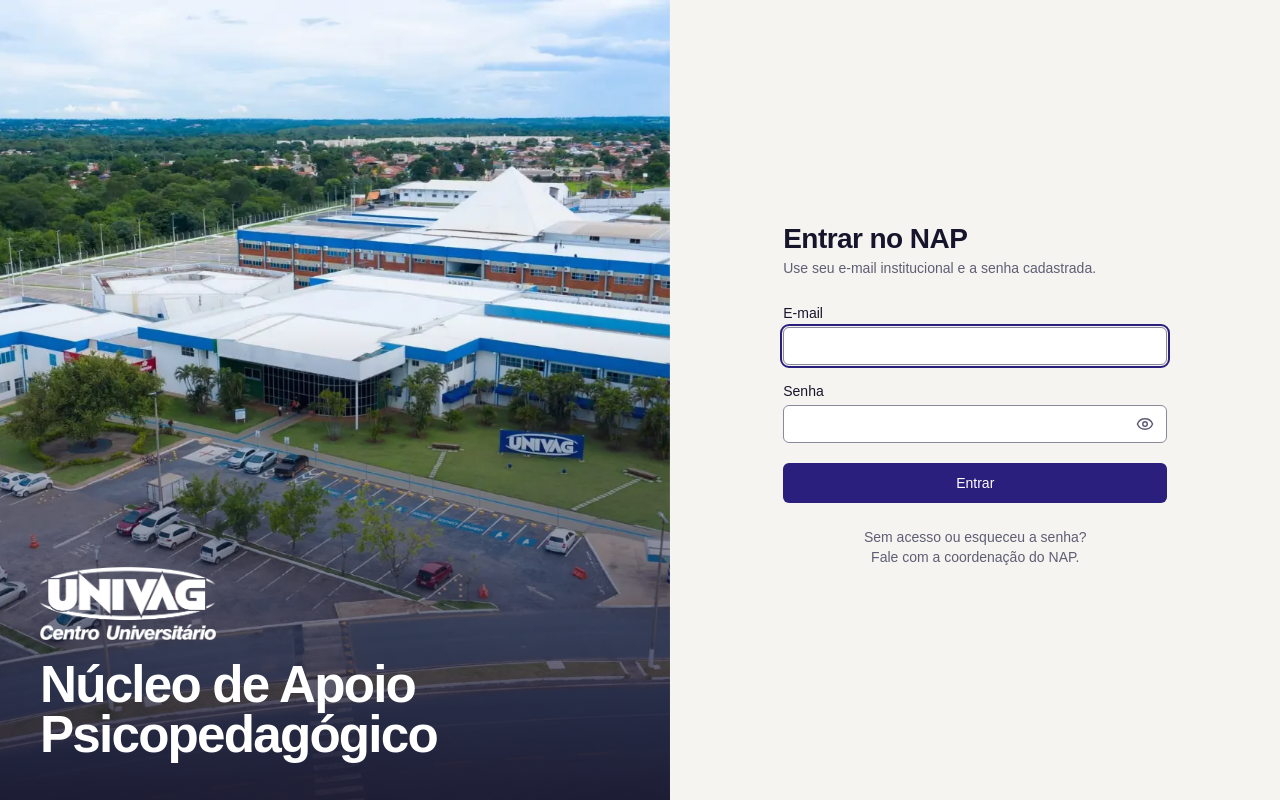
Test: LoginPage › credencial_recusada_mostra_texto_fixo_sem_apontar_o_campo
Type "ana@nap.demo" into the field labelled "E-mail".
click(975, 346); type("ana@nap.demo")  # box [783,327,1167,365]
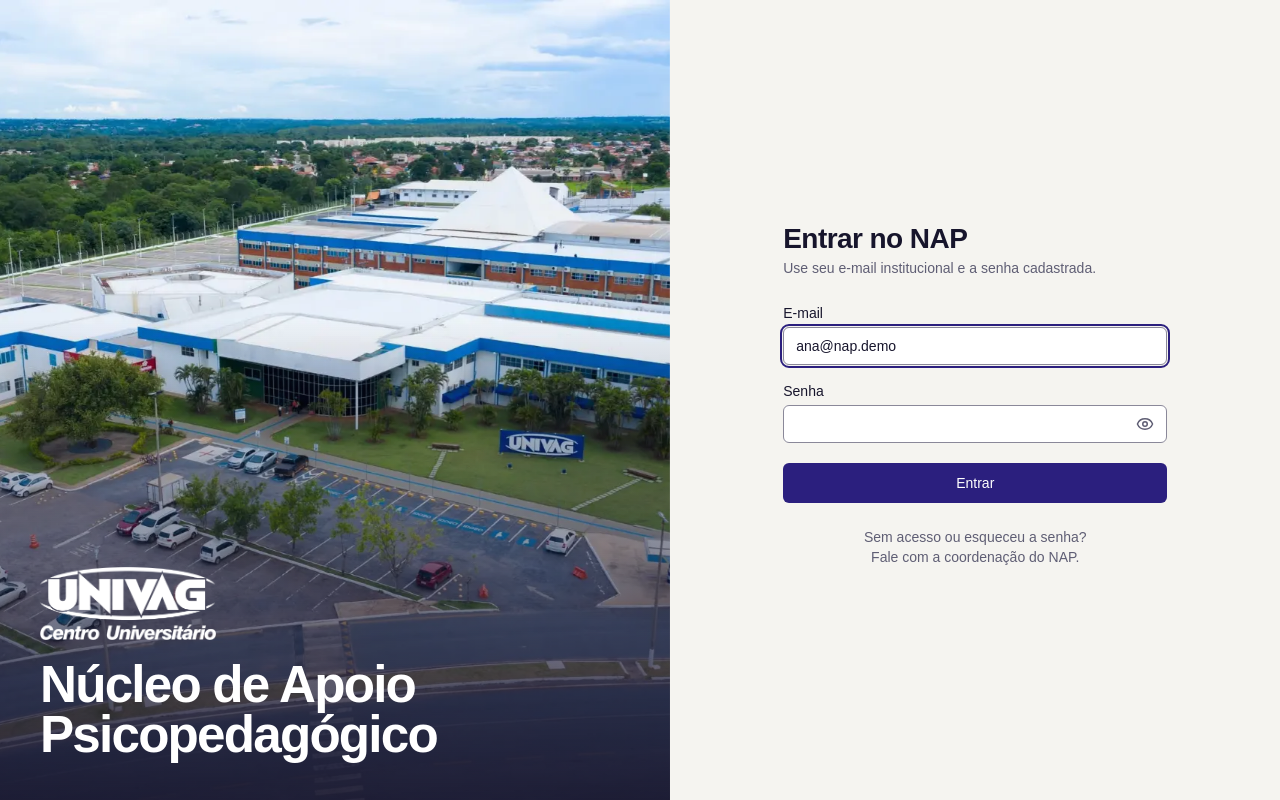
Type "Senha12345" into the password field labelled "Senha".
click(975, 424); type("Senha12345")  # box [783,405,1167,443]
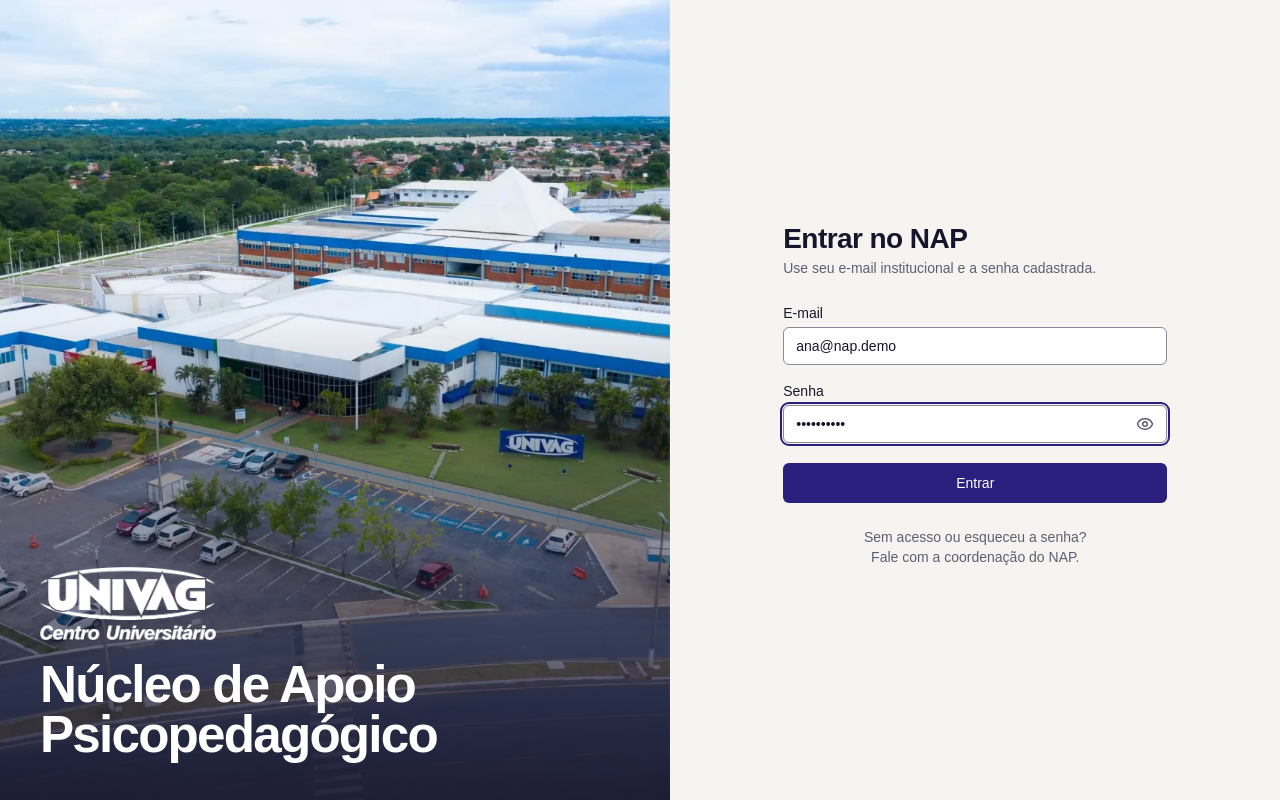
Click the button "Entrar".
click(975, 483)  # box [783,463,1167,503]
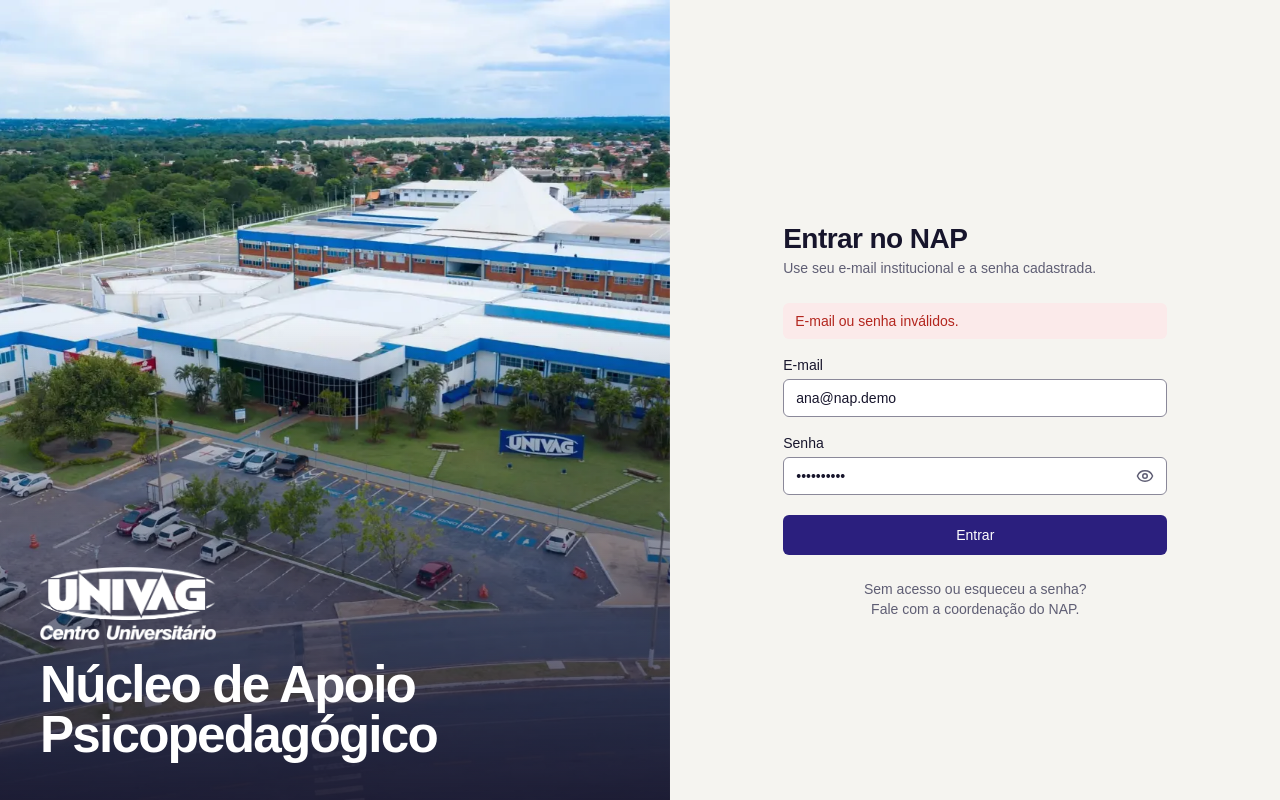
Result: the message reads "E-mail ou senha inválidos." at [795,313,959,329]
